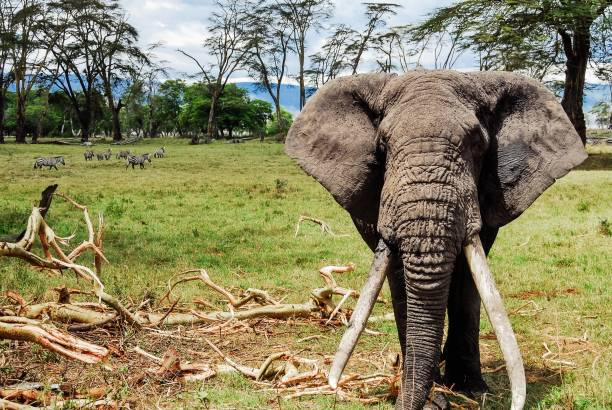africanelephant: (332, 67, 519, 351)
